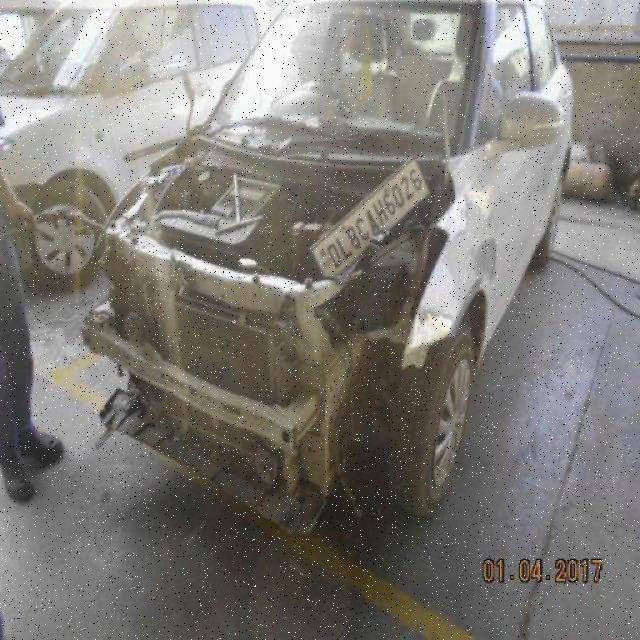car damage: (90, 202, 456, 532)
